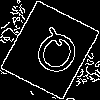Q: (25, 25, 85, 87)
